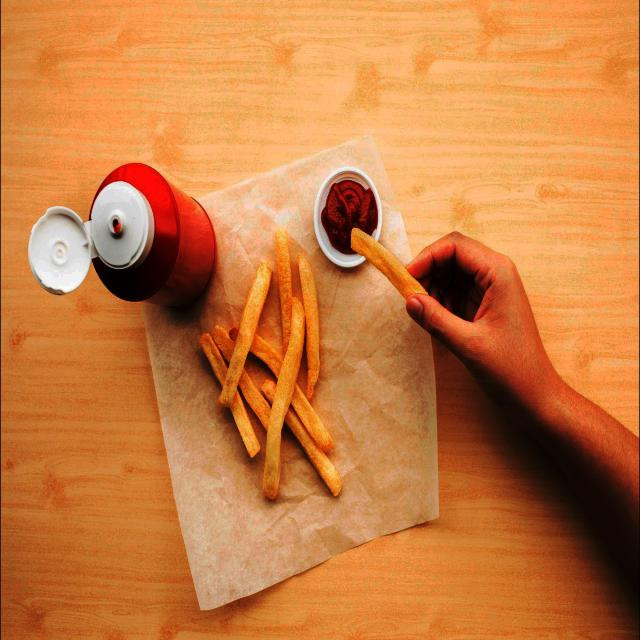french fries: (202, 235, 342, 508), (350, 226, 428, 306)
ketchup: (317, 177, 378, 261)
